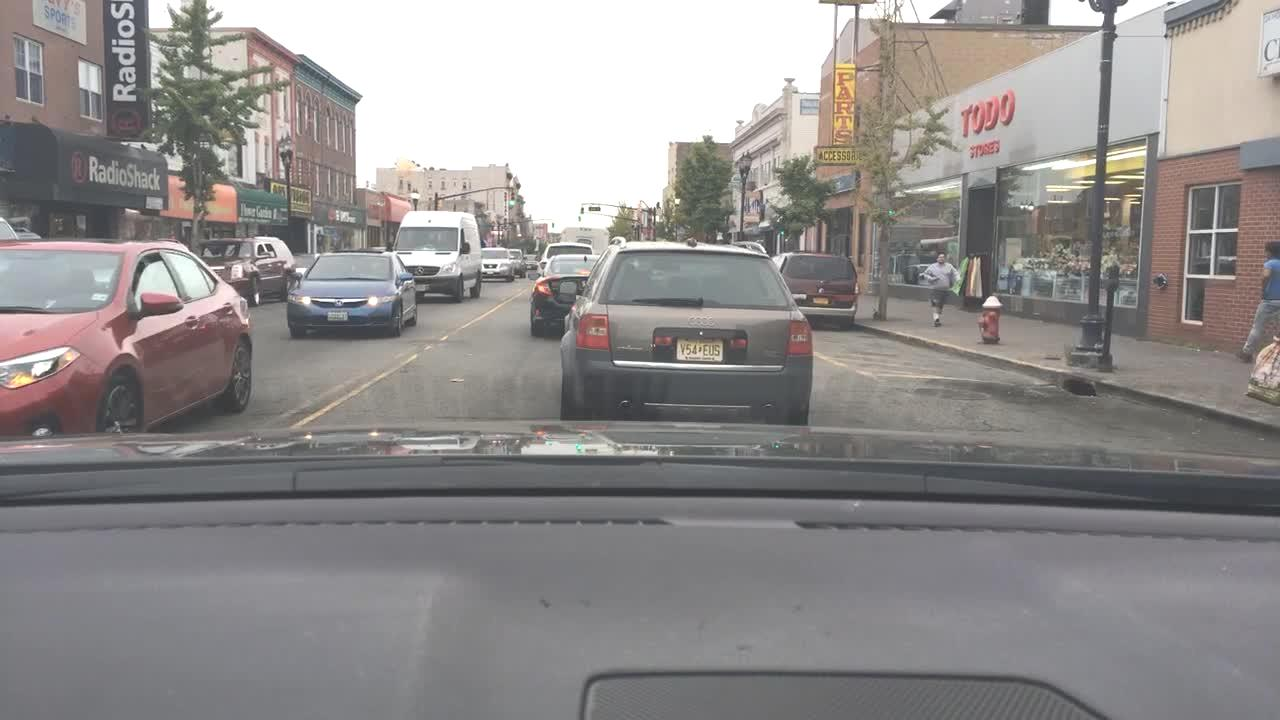Audi: (685, 311, 728, 332)
